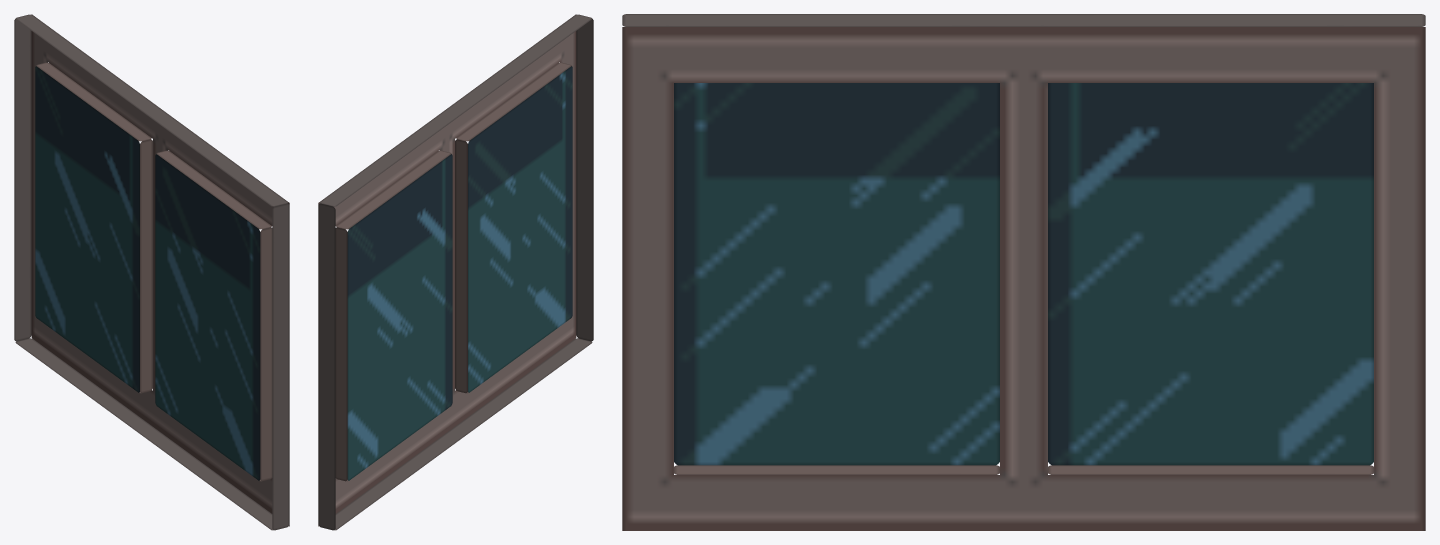
File: WindowBrown2Large.fbx
3 views of the same model, side by side, from view 1: azimuth 30°, elevation 25°; view 2: azimuth 150°, elevation 25°; view 3: azimuth 270°, elevation 25° (orthographic). The views are drawn at different scales.
Visible parts, largest first — view 1: plane; view 2: plane; view 3: plane.
Part boxes in pixels (<box>): plane: <box>14,14,289,530</box>; plane: <box>318,14,593,530</box>; plane: <box>622,14,1425,530</box>.
Bounding box in the file's own units: 6.25 × 112 × 162.
1 material, 1 textured.
